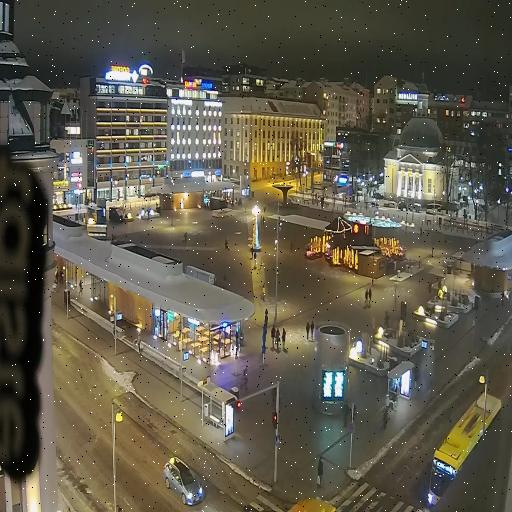Bus: (428, 384, 501, 506), (289, 497, 335, 512)
Car: (163, 457, 204, 505)
